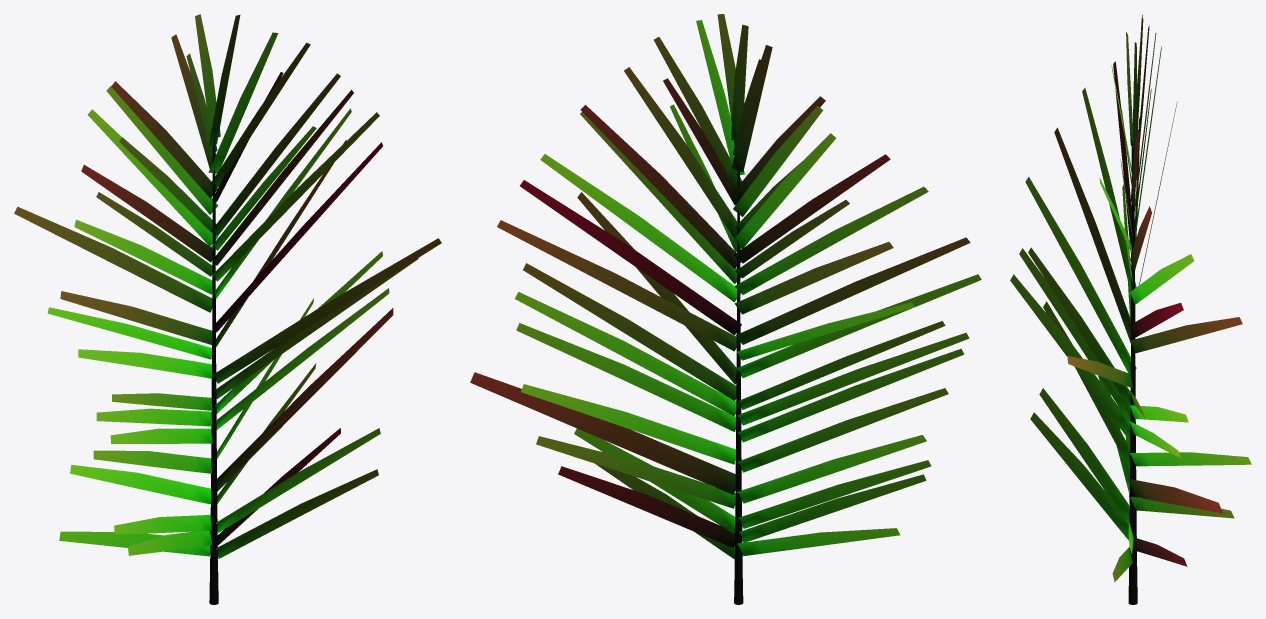
File: Leafmap_Palm_4.fbx
3 views of the same model, side by side, from view 1: azimuth 30°, elevation 25°; view 2: azimuth 150°, elevation 25°; view 3: azimuth 270°, elevation 25° (orthographic).
Parts seen in each view (by area): view 1: Leafmap_Palm_4; view 2: Leafmap_Palm_4; view 3: Leafmap_Palm_4.
Boxes of the visible parts, left/top/right/bottom form: Leafmap_Palm_4: left=14, top=14, right=441, bottom=604; Leafmap_Palm_4: left=470, top=14, right=981, bottom=604; Leafmap_Palm_4: left=1010, top=15, right=1251, bottom=604.
Bounding box in the file's own units: 970 × 1303 × 490.
